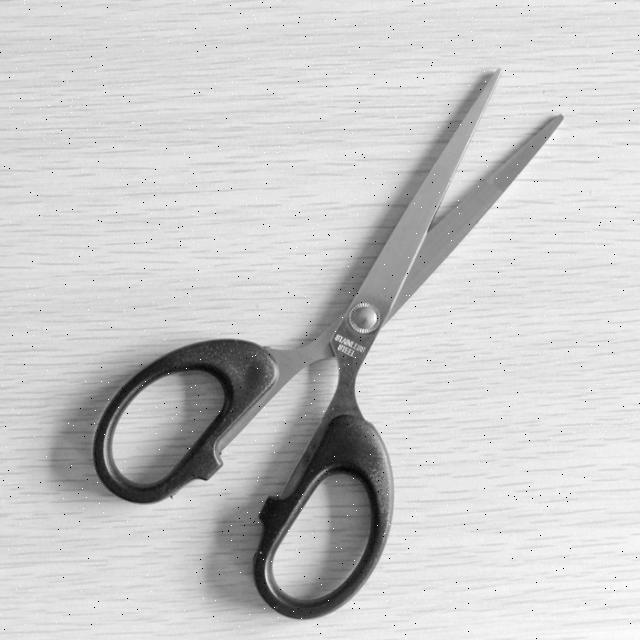scissors: (90, 62, 570, 624)
